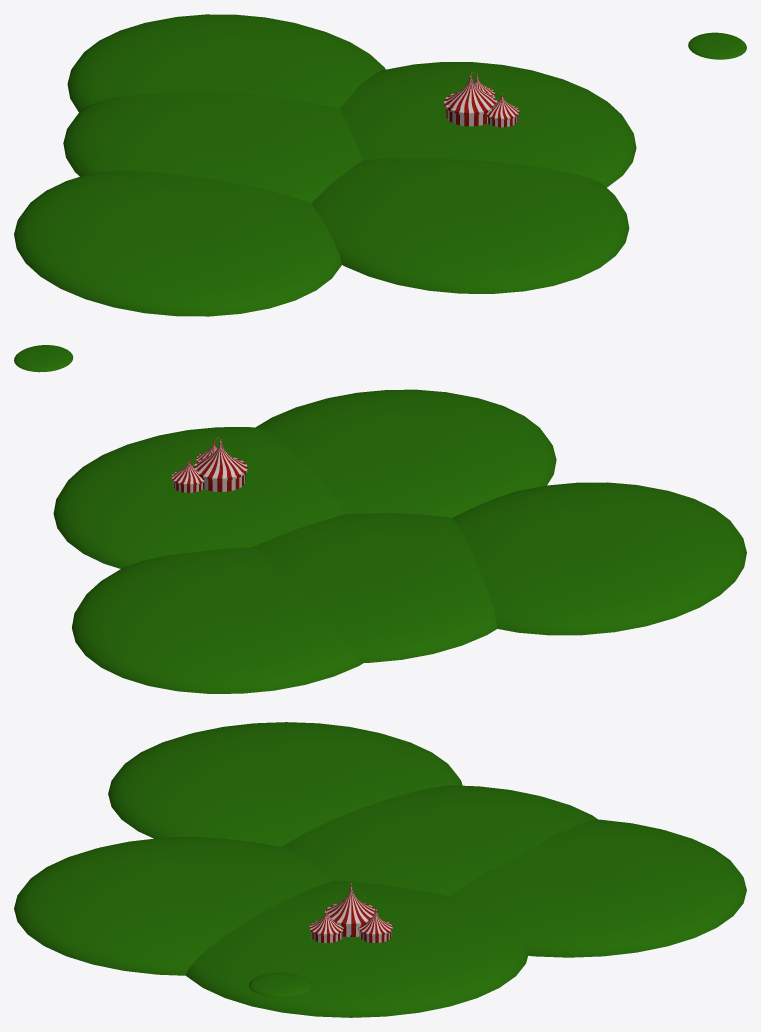
File: MainMenuTentLightsDone.fbx
The picture shows the model from 3 angles, top to bottom: view 1: azimuth 30°, elevation 25°; view 2: azimuth 150°, elevation 25°; view 3: azimuth 270°, elevation 25°; orthographic projection.
Visible parts, largest first — view 1: Hill3, Hill1, Hill4, TentHill, Hill2, MainTent, CameraHill, SmallTent1; view 2: Hill3, Hill2, Hill1, TentHill, Hill4, MainTent, CameraHill, SmallTent2; view 3: Hill3, TentHill, Hill1, Hill2, Hill4, MainTent, CameraHill, SmallTent2, SmallTent1.
Boxes of the visible parts, x1,y1,x2,y2 form: Hill3: [14, 171, 341, 316]; Hill1: [311, 158, 629, 293]; Hill4: [63, 92, 362, 203]; TentHill: [340, 62, 636, 187]; Hill2: [67, 14, 385, 111]; MainTent: [444, 71, 497, 126]; CameraHill: [688, 32, 746, 59]; SmallTent1: [486, 91, 519, 127]; Hill3: [452, 482, 746, 635]; Hill2: [72, 547, 363, 693]; Hill1: [255, 389, 556, 517]; TentHill: [53, 427, 344, 568]; Hill4: [253, 513, 497, 662]; MainTent: [194, 436, 247, 491]; CameraHill: [14, 345, 73, 372]; SmallTent2: [171, 457, 204, 492]; Hill3: [108, 722, 462, 846]; TentHill: [185, 881, 528, 1017]; Hill1: [14, 837, 334, 975]; Hill2: [449, 819, 746, 957]; Hill4: [282, 785, 597, 896]; MainTent: [324, 882, 377, 936]; CameraHill: [249, 972, 312, 997]; SmallTent2: [358, 907, 392, 942]; SmallTent1: [309, 907, 343, 942].
Bounding box in the file's own units: 277289 × 27946 × 254080.
